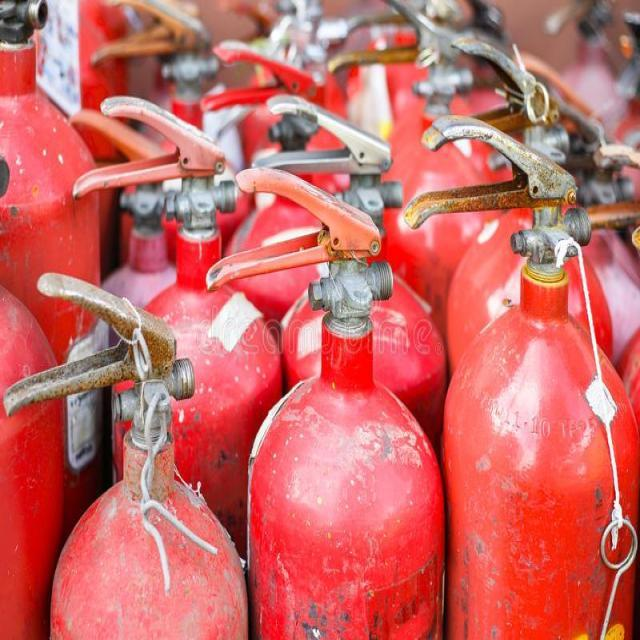fire_extinguisher: (60, 86, 294, 638), (398, 105, 639, 639), (190, 160, 453, 639), (0, 268, 261, 639), (0, 0, 104, 639)
